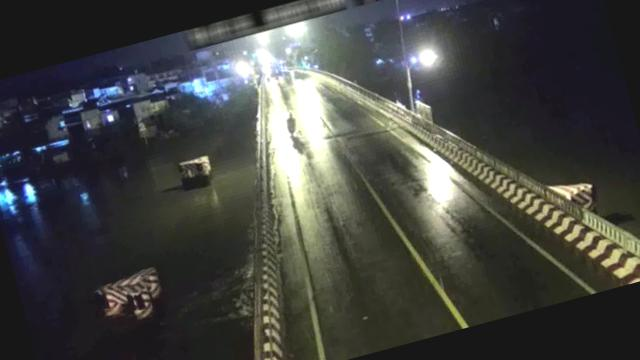Bike: (281, 110, 300, 138)
